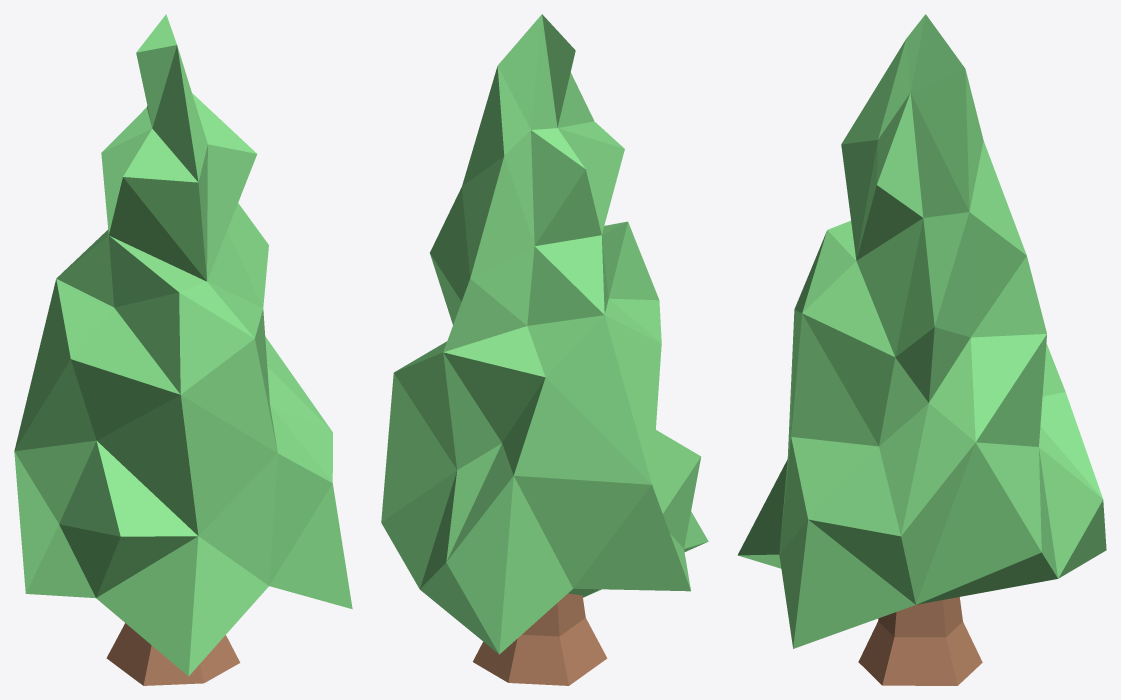
File: arbre2_lowpoly.fbx
The picture shows the model from 3 angles, left to right: view 1: azimuth 30°, elevation 25°; view 2: azimuth 150°, elevation 25°; view 3: azimuth 270°, elevation 25°; orthographic projection.
Visible parts, largest first — view 1: Cube.013, Cube.012; view 2: Cube.013, Cube.012; view 3: Cube.013, Cube.012.
Part boxes in pixels (x1=…): Cube.013: x1=14, y1=14, x2=352, y2=676; Cube.012: x1=106, y1=623, x2=240, y2=685; Cube.013: x1=381, y1=14, x2=708, y2=654; Cube.012: x1=473, y1=593, x2=607, y2=685; Cube.013: x1=737, y1=14, x2=1106, y2=648; Cube.012: x1=858, y1=597, x2=982, y2=685.
Bounding box in the file's own units: 4.87 × 5.21 × 10.06.
